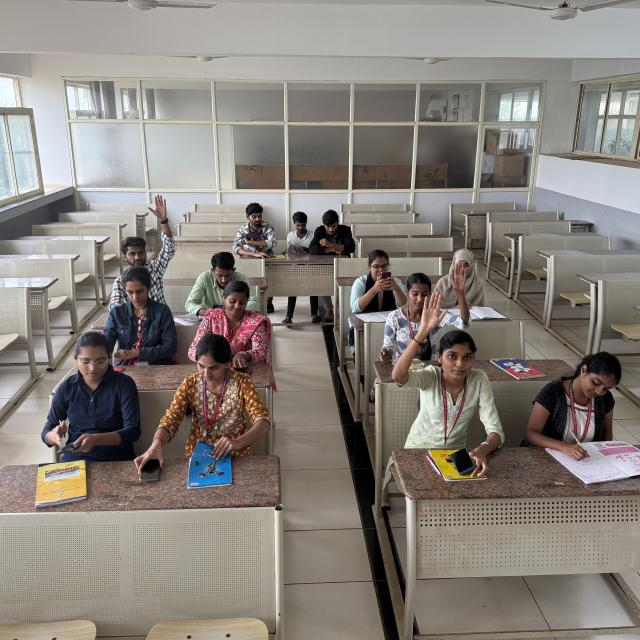Hand Rising: (404, 294, 505, 444), (103, 203, 191, 275), (395, 270, 474, 340)
Reading: (439, 242, 517, 318)
Using Phone: (144, 343, 210, 479), (347, 245, 413, 316), (185, 250, 250, 322), (230, 204, 278, 259)
Writing: (526, 348, 638, 480)
